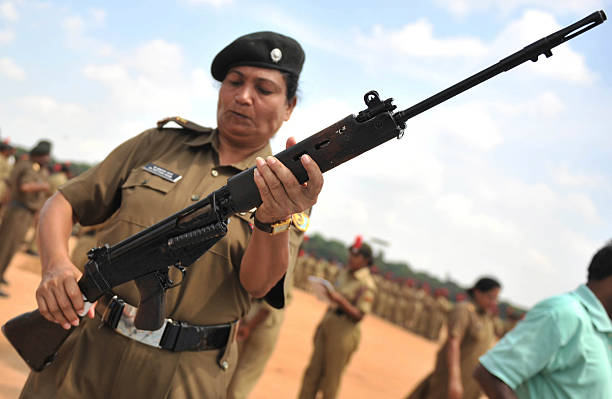rifle: (1, 125, 583, 326)
